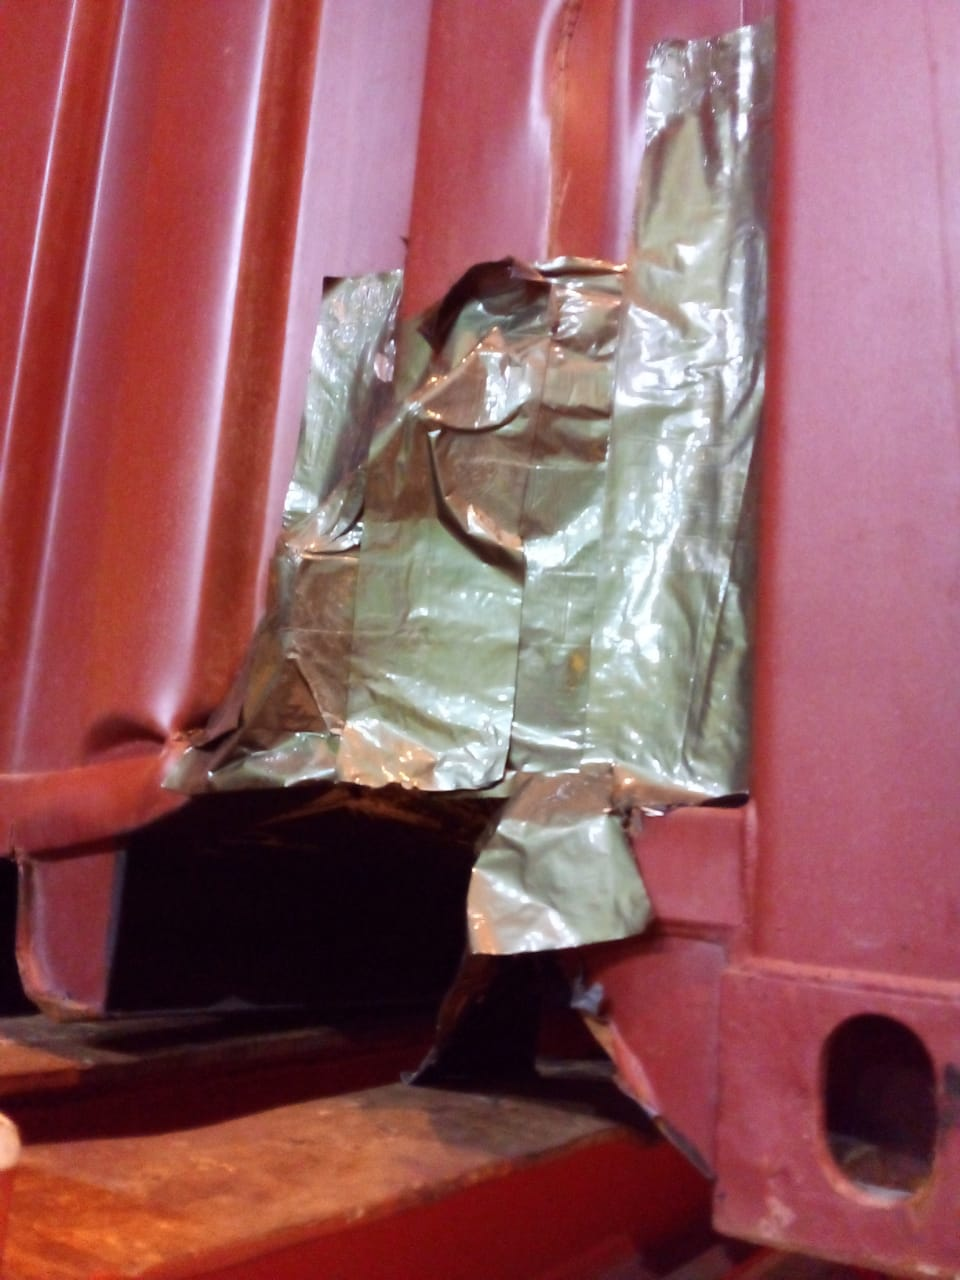severe: (79, 42, 812, 1018)
